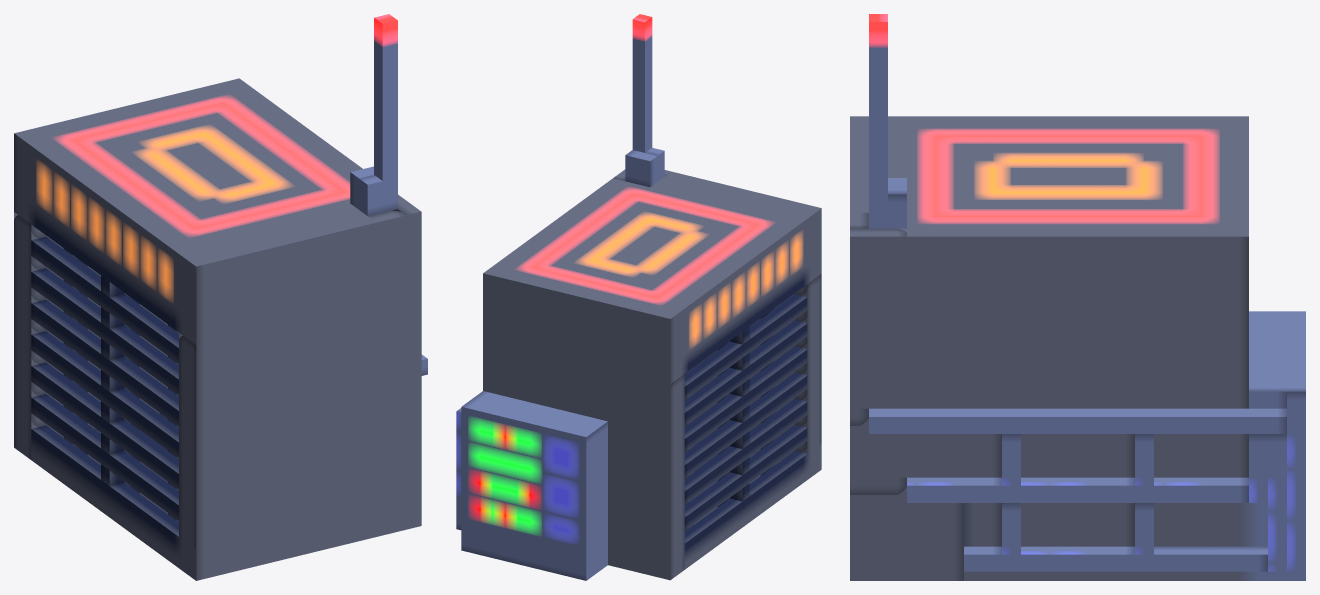
The model's file is Wlot_dronowy.dae.
3 views of the same model, side by side, from view 1: azimuth 30°, elevation 25°; view 2: azimuth 150°, elevation 25°; view 3: azimuth 270°, elevation 25° (orthographic). The views are drawn at different scales.
Parts seen in each view (by area): view 1: Content; view 2: Content; view 3: Content.
Part boxes in pixels (left/top/right/bottom): Content: left=14, top=14, right=427, bottom=580; Content: left=456, top=14, right=821, bottom=580; Content: left=850, top=14, right=1305, bottom=580.
Size of the model in its own units: 16 by 32 by 24.
Materials: 1 (1 with a texture image).
